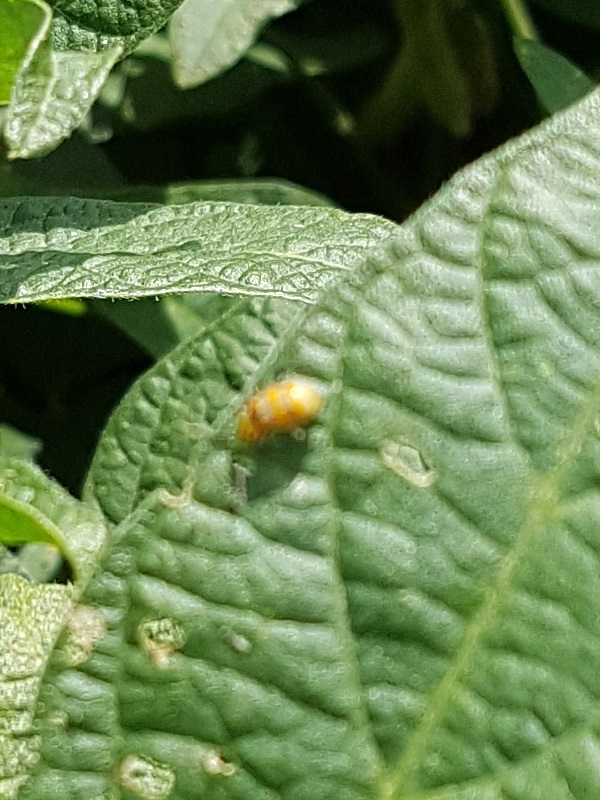Diabrotica_speciosa: (211, 351, 347, 470)
